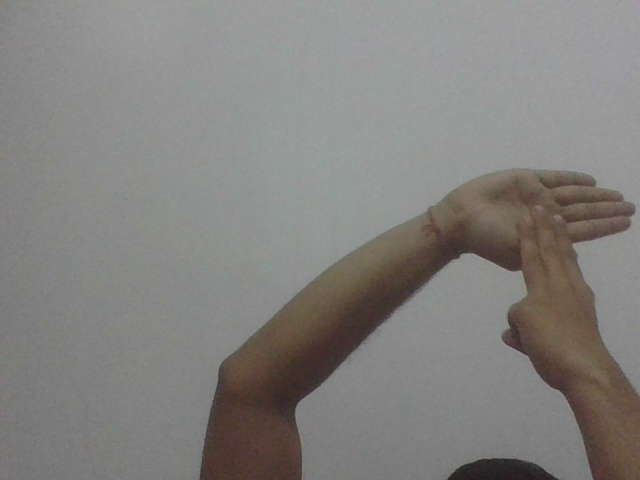M: (459, 165, 640, 310)
